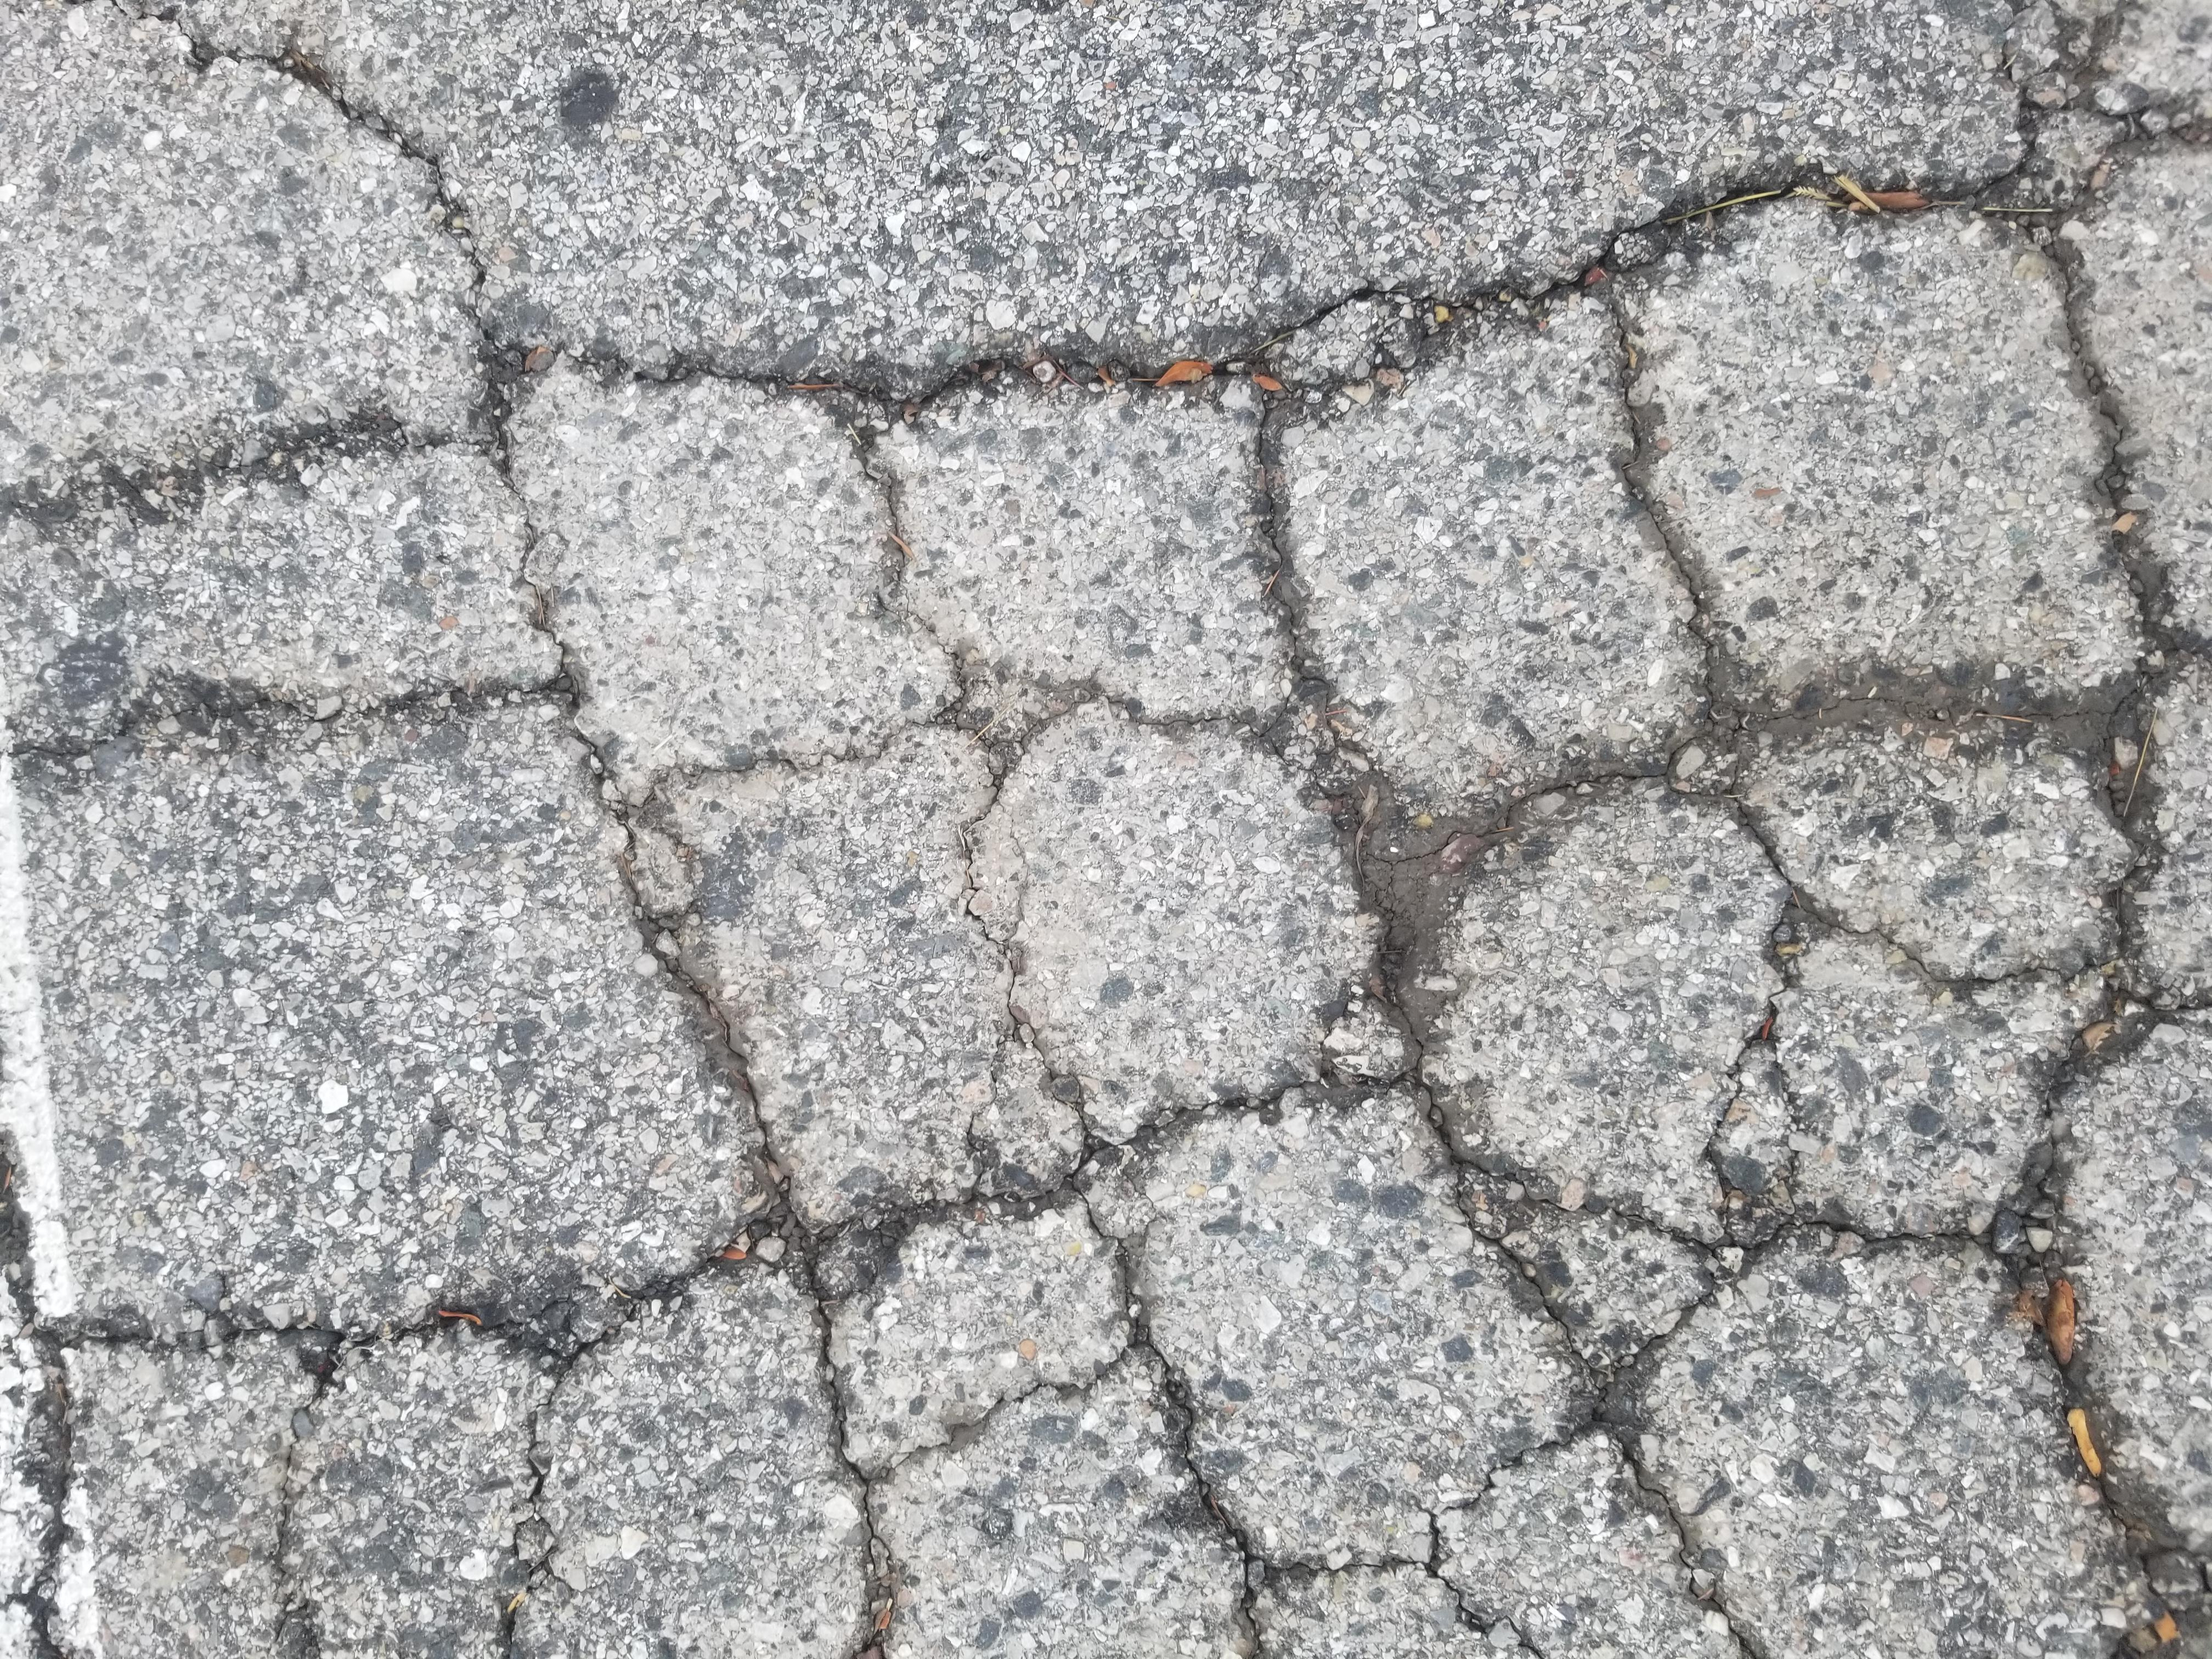alligator-crack: (10, 0, 2212, 1659)
